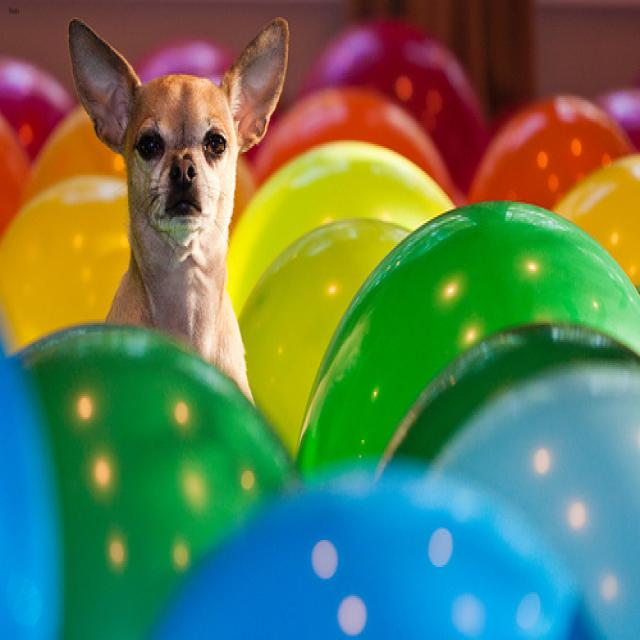dog-chihuahua: (59, 8, 297, 411)
